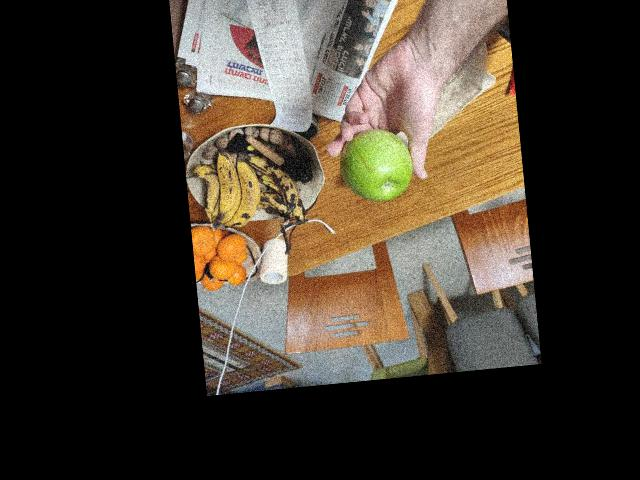apple: (338, 128, 415, 208)
